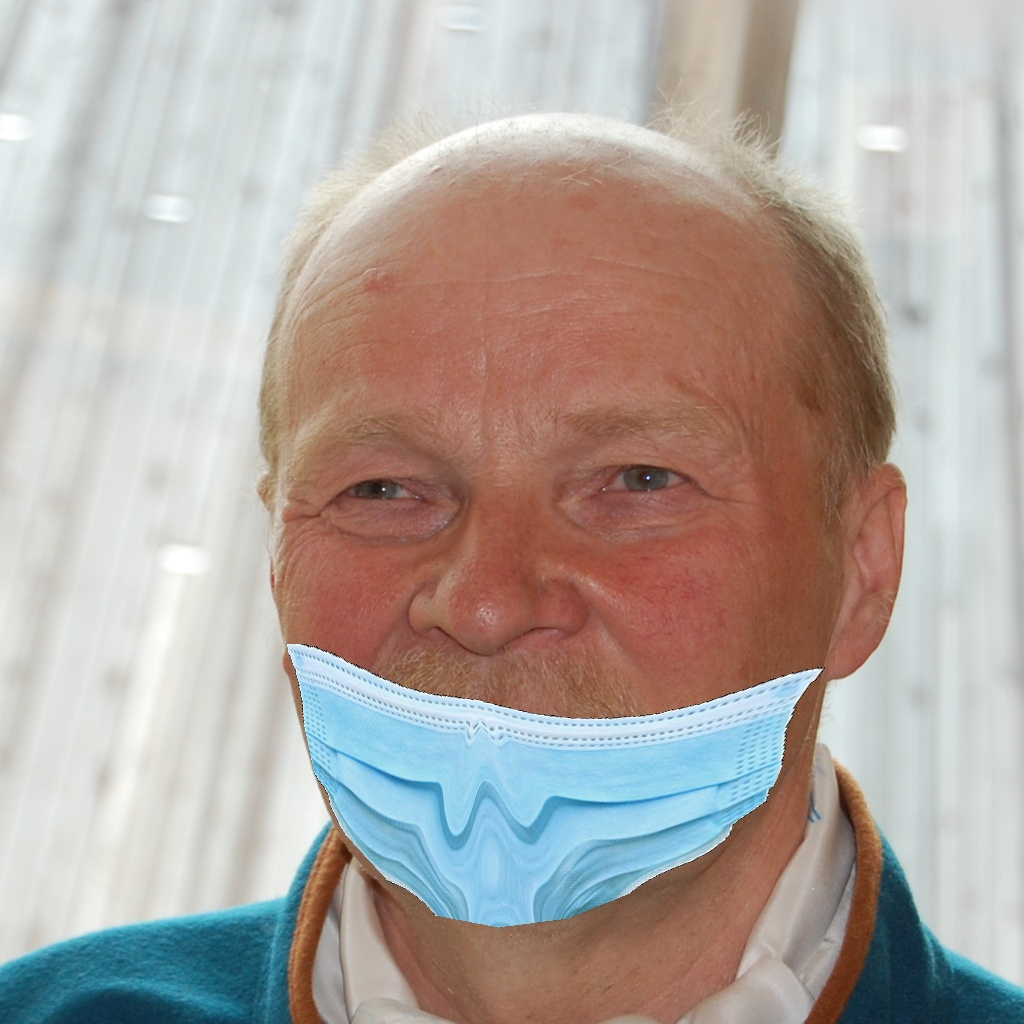mascarilla_mal_puesta: (247, 340, 909, 928)
